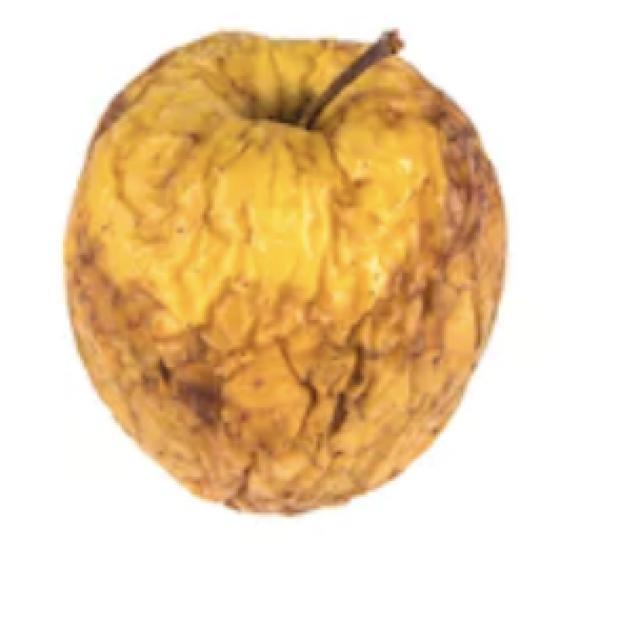Rotten: (75, 34, 498, 574)
